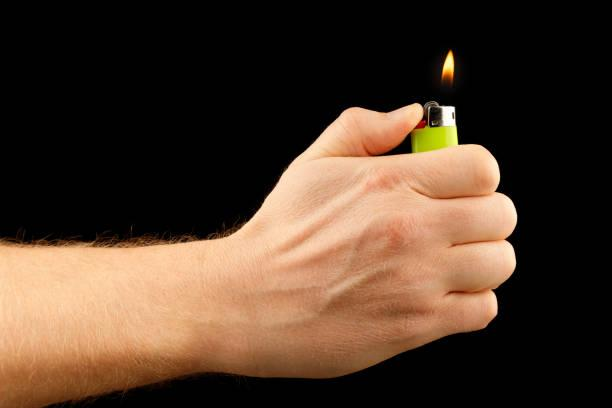Fire: (438, 49, 458, 91)
